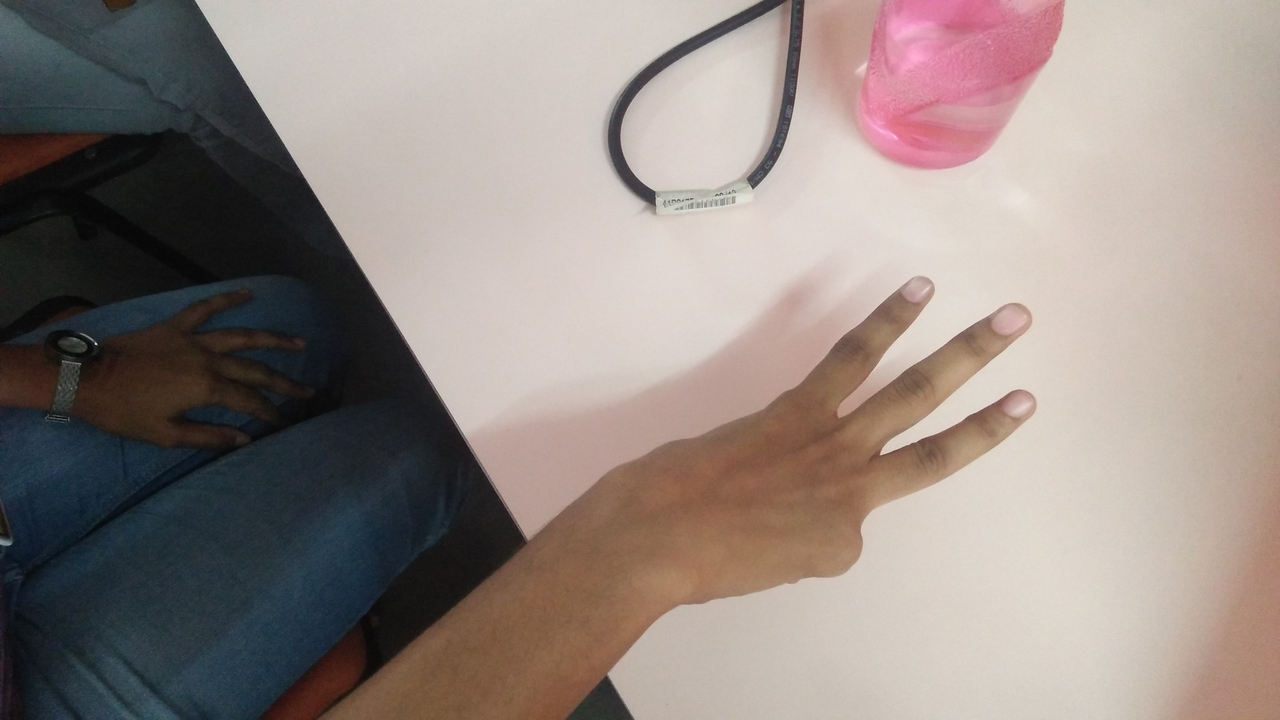fingertip: (974, 290, 1052, 346), (880, 262, 954, 318), (976, 380, 1054, 432)
